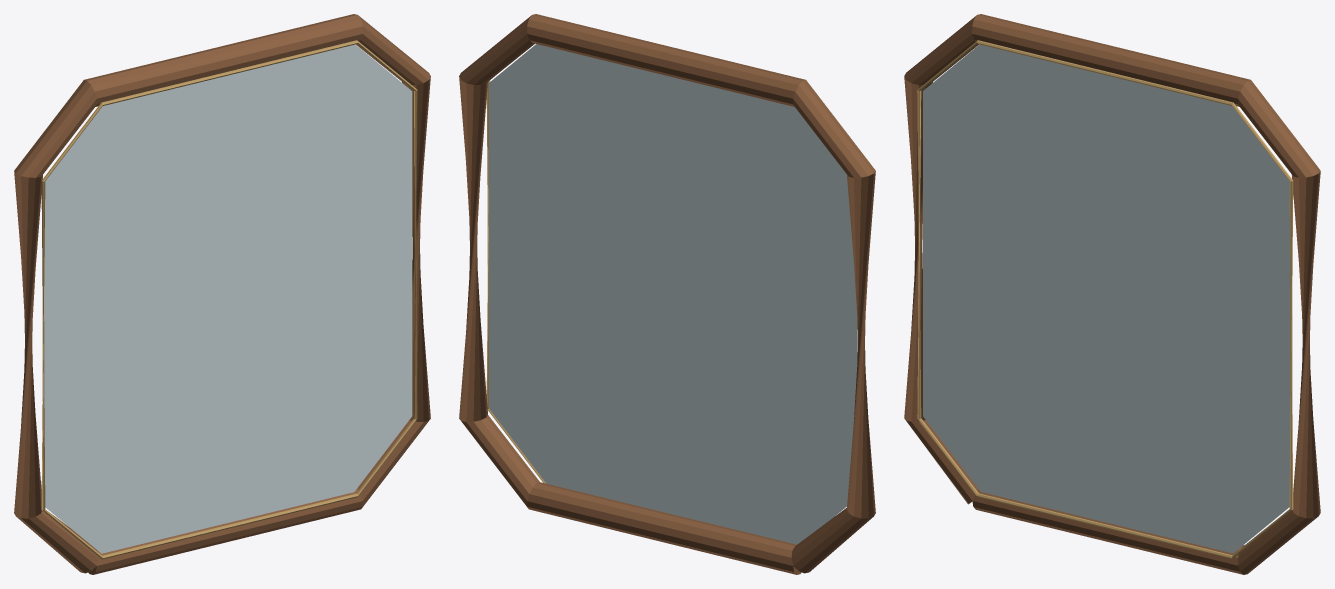
File: designed-mirror-faceted.glb
3 views of the same model, side by side, from view 1: azimuth 30°, elevation 25°; view 2: azimuth 150°, elevation 25°; view 3: azimuth 330°, elevation 25° (orthographic).
Visible parts, largest first — view 1: designed-mirror-faceted authored assembly; view 2: designed-mirror-faceted authored assembly; view 3: designed-mirror-faceted authored assembly.
Part boxes in pixels (x1,y1,x2,y2): designed-mirror-faceted authored assembly: (14, 14, 430, 574); designed-mirror-faceted authored assembly: (459, 14, 875, 574); designed-mirror-faceted authored assembly: (904, 14, 1320, 574).
Size of the model in its own units: 0.7 by 0.8 by 0.045.
